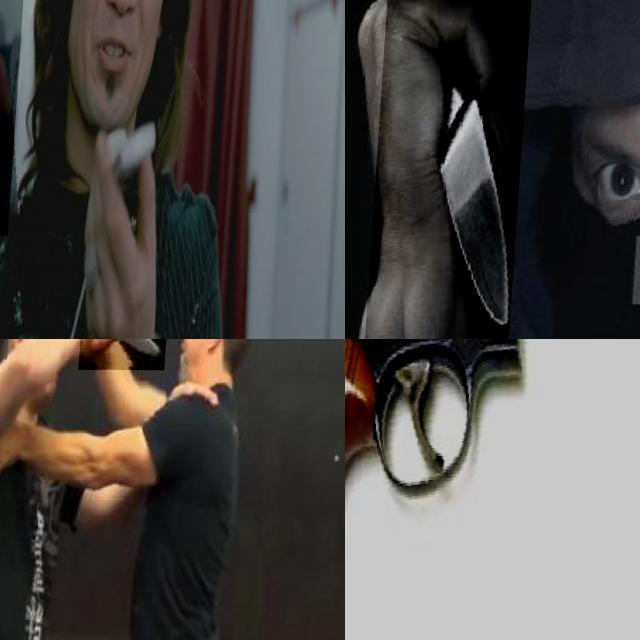-: (371, 0, 539, 339), (80, 339, 171, 381)
gun-knife-thesis - v11 Yolov5 augmented: (345, 339, 640, 640), (0, 0, 55, 235)
